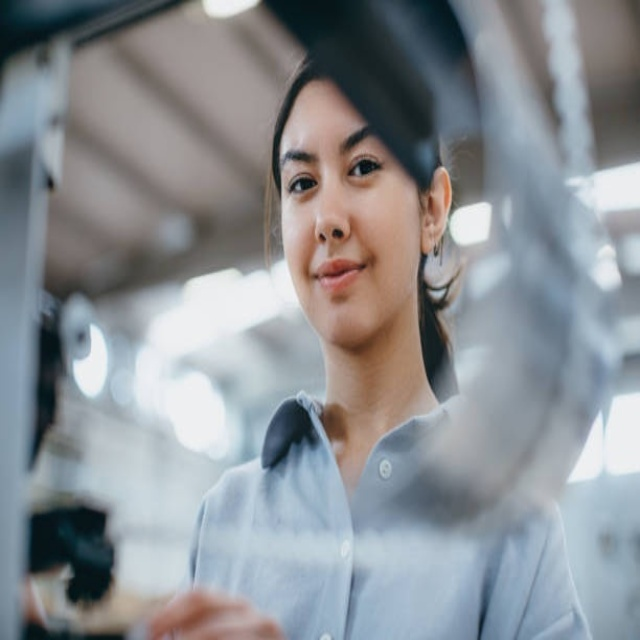Sin_gafas: (277, 127, 384, 207)
Sin_mascara: (298, 242, 378, 318)
